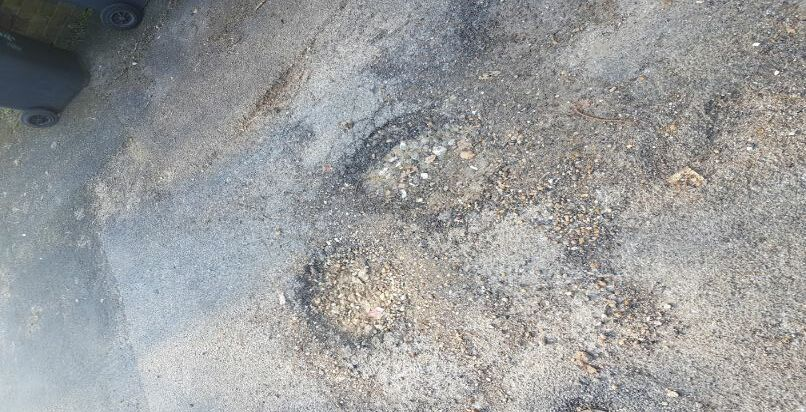pothole: (344, 104, 504, 224), (287, 227, 420, 352)
